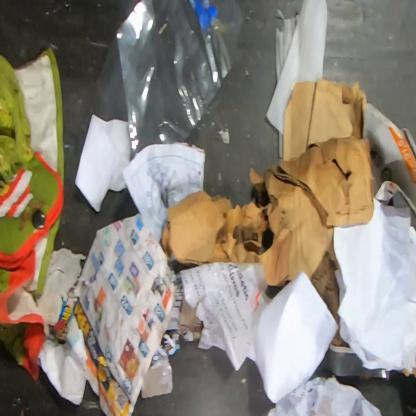cardboard: (161, 135, 374, 288), (362, 101, 415, 230), (310, 234, 340, 327), (141, 352, 174, 400), (177, 297, 203, 338)
soft_plastic: (92, 0, 246, 162), (179, 261, 274, 371), (328, 340, 390, 380)
